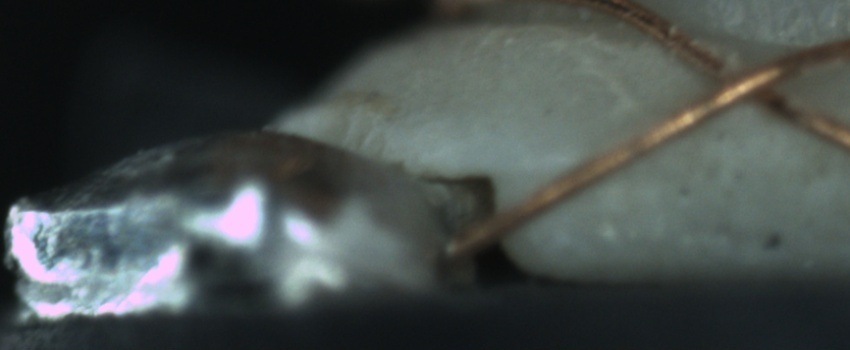CL: (676, 39, 806, 127)
